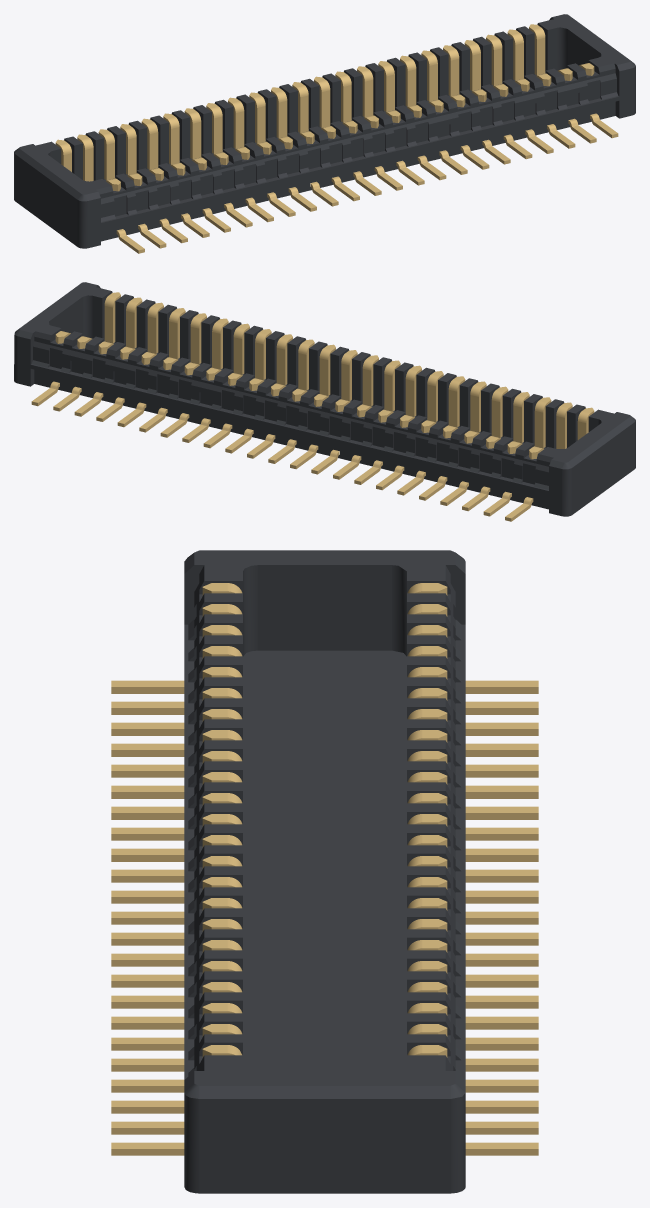
The model's file is kc-molex_slimstack_55560-0461_2x23_p0.50mm_vertical.glb.
3 views of the same model, one above another, from view 1: azimuth 30°, elevation 25°; view 2: azimuth 150°, elevation 25°; view 3: azimuth 270°, elevation 25° (orthographic). The views are drawn at different scales.
Parts seen in each view (by area): view 1: 0.08333333333333333_0.08333333333333333_0.08333333333333333_, 0.75_0.5_0.25_0.9; view 2: 0.08333333333333333_0.08333333333333333_0.08333333333333333_, 0.75_0.5_0.25_0.9; view 3: 0.08333333333333333_0.08333333333333333_0.08333333333333333_, 0.75_0.5_0.25_0.9.
Part boxes in pixels (x1,y1,x2,y2): 0.08333333333333333_0.08333333333333333_0.08333333333333333_: (14,14,635,248); 0.75_0.5_0.25_0.9: (55,24,618,253); 0.08333333333333333_0.08333333333333333_0.08333333333333333_: (14,282,635,516); 0.75_0.5_0.25_0.9: (31,292,594,521); 0.08333333333333333_0.08333333333333333_0.08333333333333333_: (184,550,465,1193); 0.75_0.5_0.25_0.9: (111,583,538,1155).
Size of the model in its own units: 1.29 by 0.115 by 0.43.
